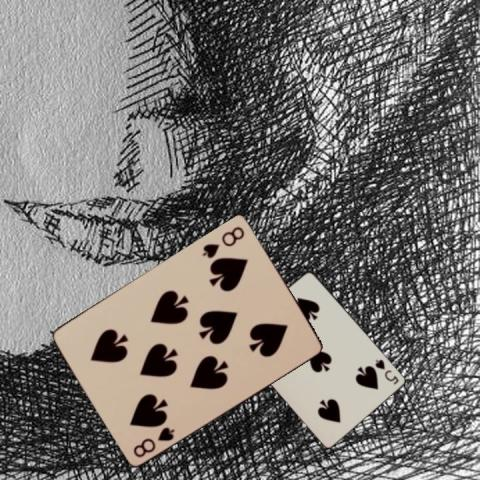5s: (372, 357, 400, 386)
8s: (199, 223, 246, 259), (130, 423, 176, 459)
